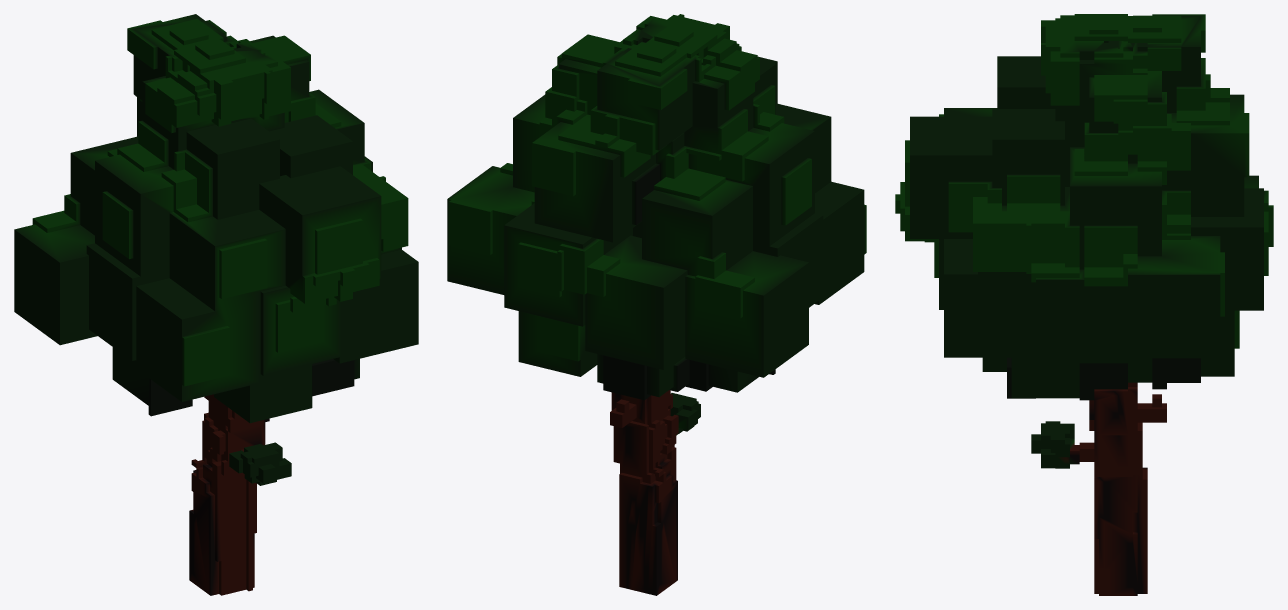
The model's file is Tree_22.fbx.
3 renders of one model, left to right at view 1: azimuth 30°, elevation 25°; view 2: azimuth 150°, elevation 25°; view 3: azimuth 270°, elevation 25°, orthographic.
Visible parts, largest first — view 1: Tree_22; view 2: Tree_22; view 3: Tree_22.
Boxes of the visible parts, left/top/right/bottom form: Tree_22: left=14, top=14, right=418, bottom=595; Tree_22: left=447, top=14, right=866, bottom=595; Tree_22: left=895, top=14, right=1273, bottom=595.
Size of the model in its own units: 760 by 1260 by 780.
